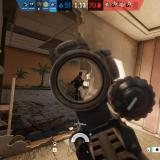Character: (70, 72, 86, 101)
Head: (78, 72, 83, 78)
